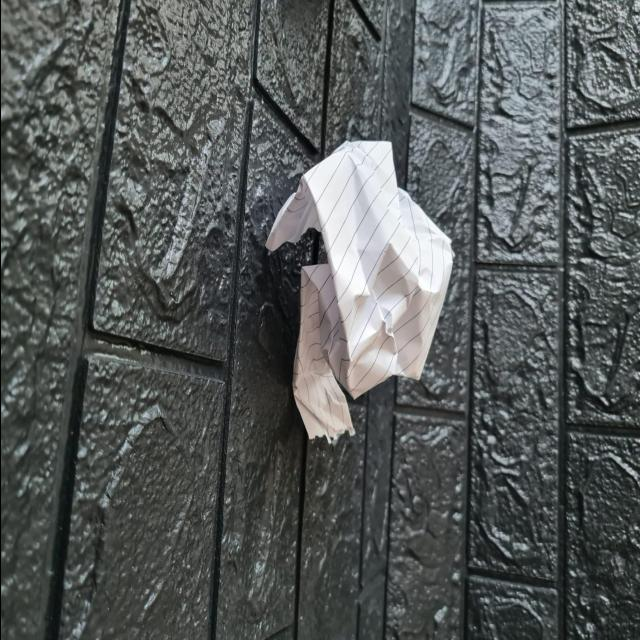kertas: (270, 137, 450, 436)
